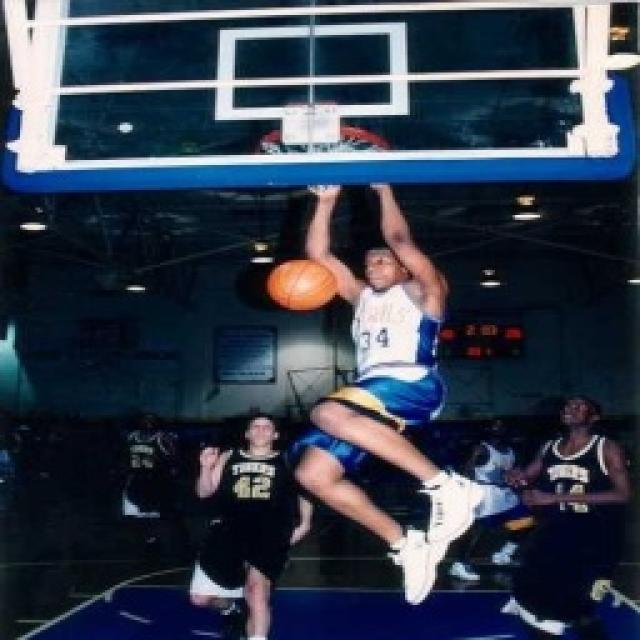rim: (268, 252, 342, 314)
